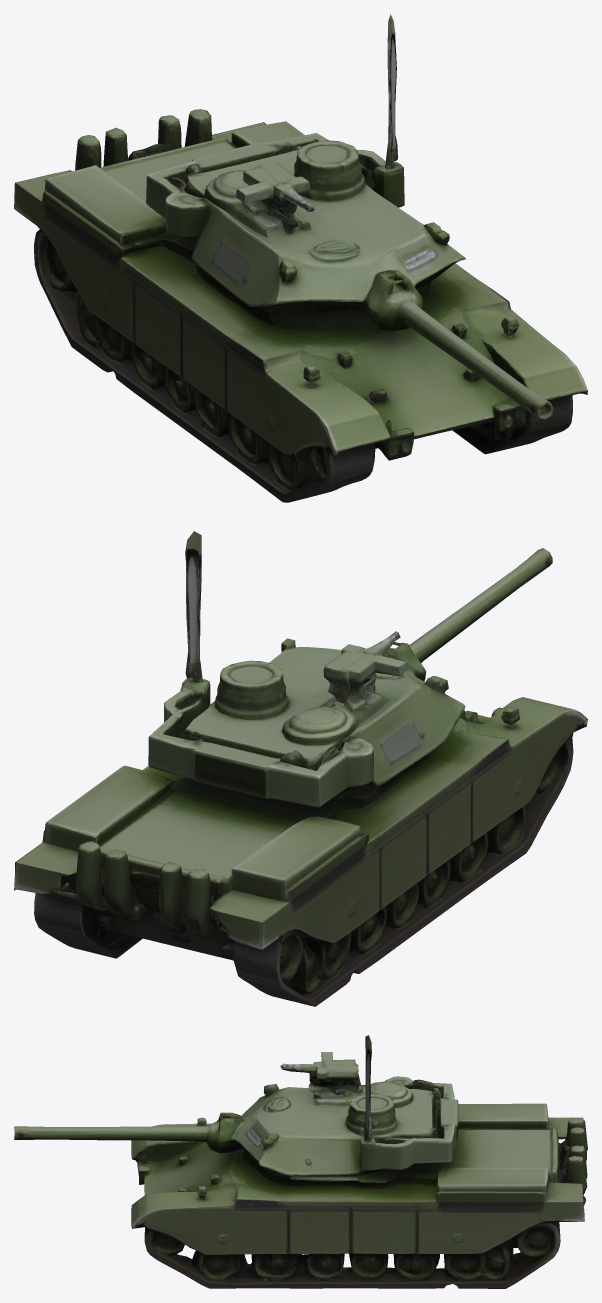
Rendered from tank.glb.
3 renders of one model, top to bottom at view 1: azimuth 30°, elevation 25°; view 2: azimuth 150°, elevation 25°; view 3: azimuth 270°, elevation 25°, orthographic. The views are drawn at different scales.
Parts seen in each view (by area): view 1: geometry_0; view 2: geometry_0; view 3: geometry_0.
Boxes of the visible parts, x1=… form: geometry_0: x1=14, y1=14, x2=587, y2=502; geometry_0: x1=14, y1=531, x2=587, y2=1006; geometry_0: x1=14, y1=1035, x2=587, y2=1288.
Bounding box in the file's own units: 0.3544 × 0.4723 × 0.9959.
1 material, 1 textured.
